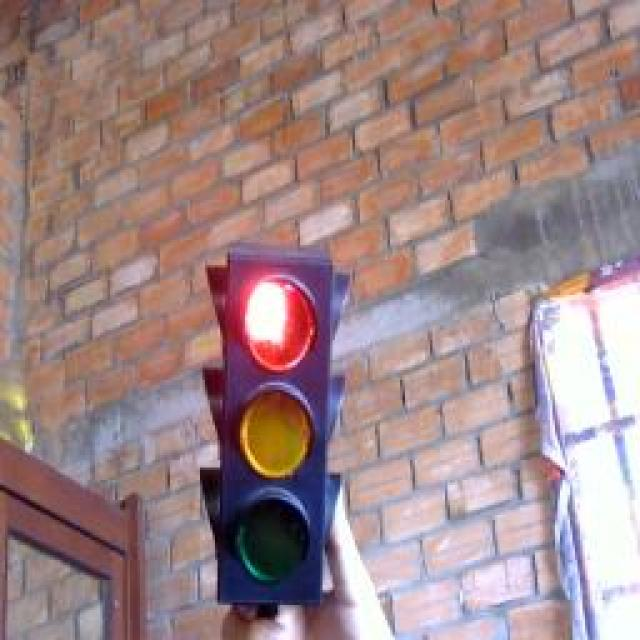-: (232, 258, 330, 376)
